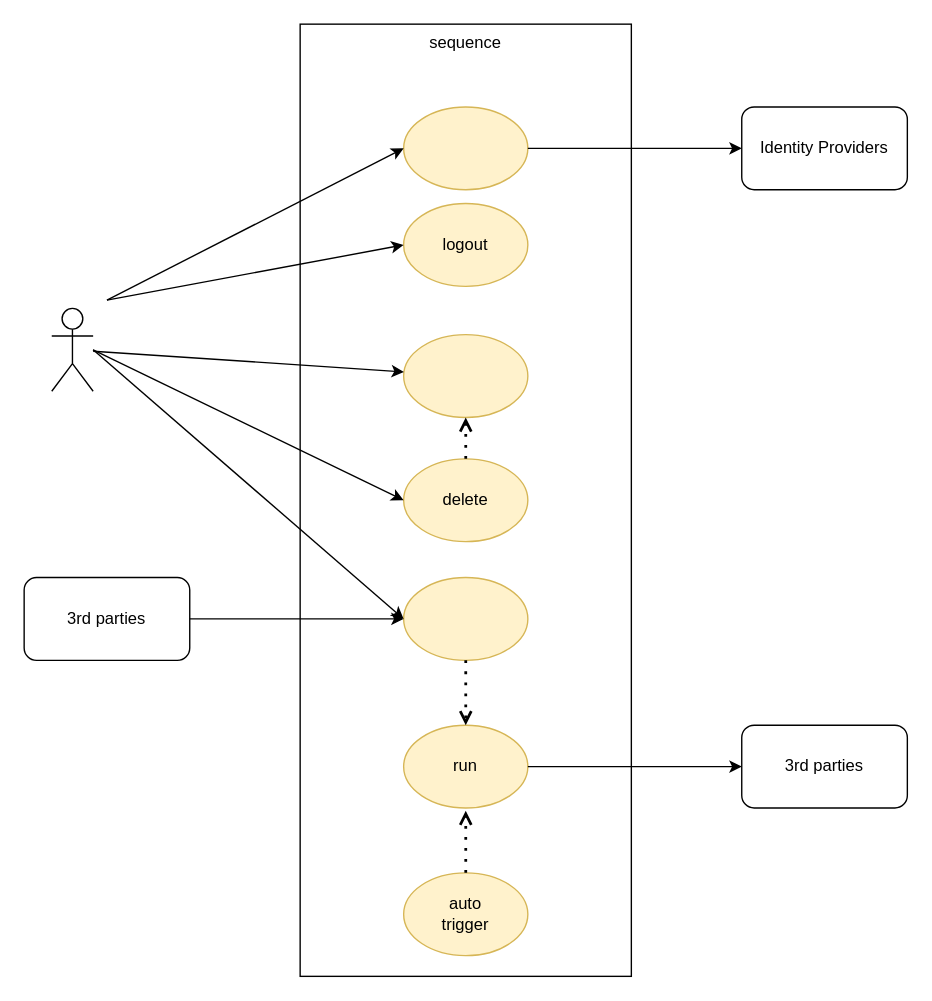
This 932x1001 diagram has some shape labels left out. Each missing label, with the box of its shape:
login: (402, 106, 528, 190)
shape: (402, 333, 528, 417)
trigger: (402, 576, 528, 660)
User: (50, 307, 93, 391)
